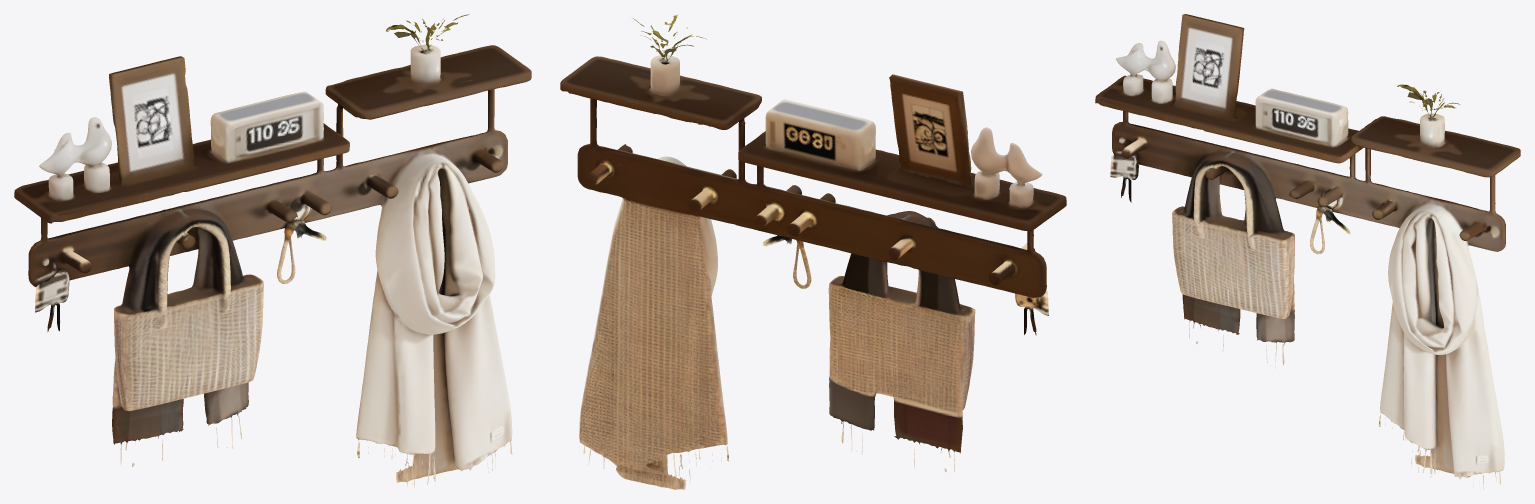
3 renders of one model, left to right at view 1: azimuth 30°, elevation 25°; view 2: azimuth 150°, elevation 25°; view 3: azimuth 330°, elevation 25°, orthographic. The views are drawn at different scales.
Visible parts, largest first — view 1: model; view 2: model; view 3: model.
Boxes of the visible parts, x1,y1,x2,y2 form: model: (14, 14, 531, 487); model: (560, 15, 1066, 489); model: (1095, 14, 1520, 489).
Bounding box in the file's own units: 175 × 167 × 24.89.
